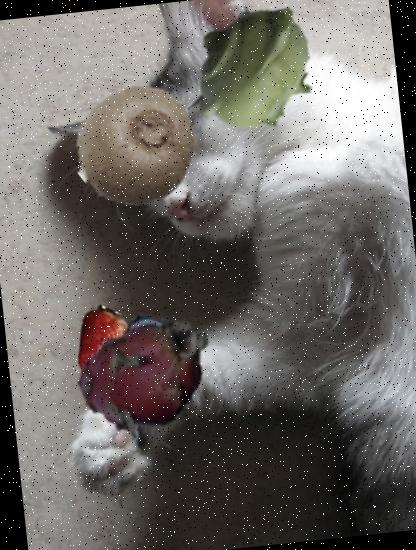Kiwi: (68, 78, 208, 218)
Kohlrabi: (178, 0, 333, 145)
Pitahaya: (69, 294, 227, 452)
Strawberry: (61, 304, 137, 380)
